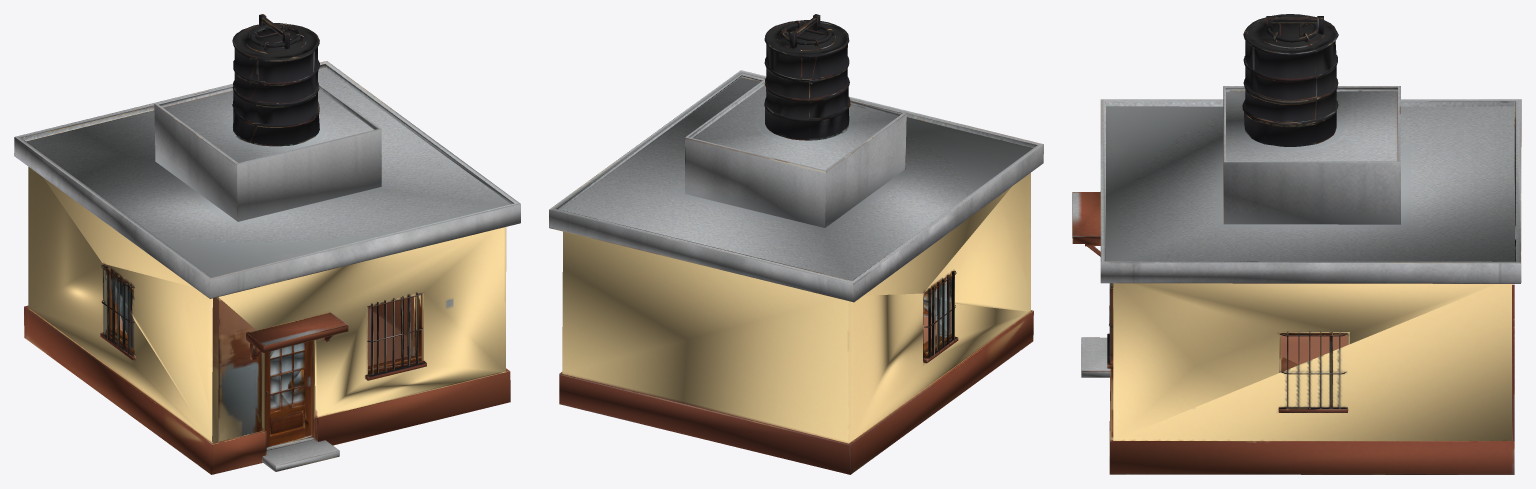
The model's file is casa1.glb.
The picture shows the model from 3 angles, left to right: view 1: azimuth 30°, elevation 25°; view 2: azimuth 150°, elevation 25°; view 3: azimuth 270°, elevation 25°; orthographic projection. The views are drawn at different scales.
Bounding box in the file's own units: 0.8374 × 0.9004 × 0.9668.
Materials: 1 (1 with a texture image).
